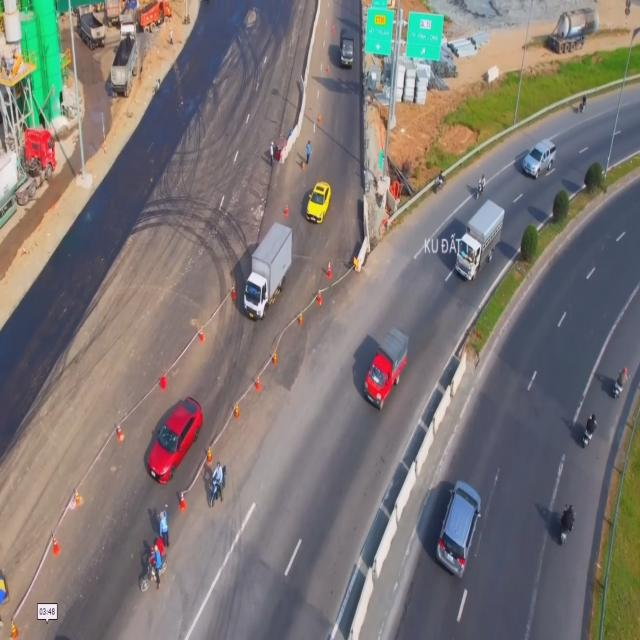car: (144, 394, 204, 484), (437, 478, 481, 579), (522, 138, 556, 180), (306, 179, 331, 226)
motorbike: (138, 544, 170, 592), (204, 458, 230, 507), (612, 367, 630, 405), (558, 503, 573, 547), (580, 416, 598, 452), (476, 172, 486, 199)
truck: (242, 222, 292, 324), (454, 198, 506, 282), (364, 326, 410, 411), (338, 29, 355, 68)
